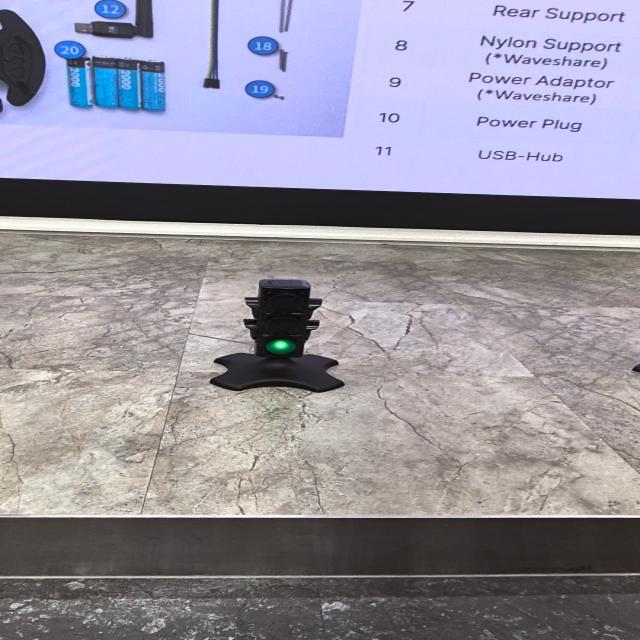green_light: (265, 340, 296, 356)
